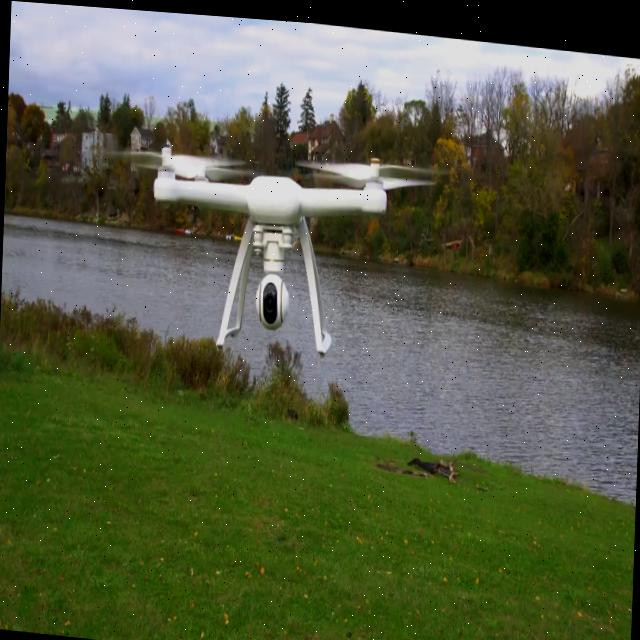drone: (120, 118, 447, 397)
